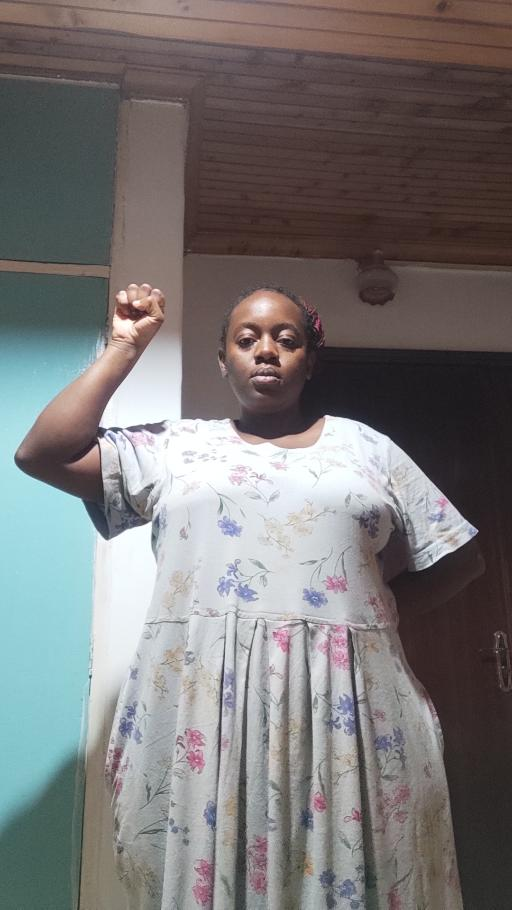fist: (104, 274, 174, 354)
